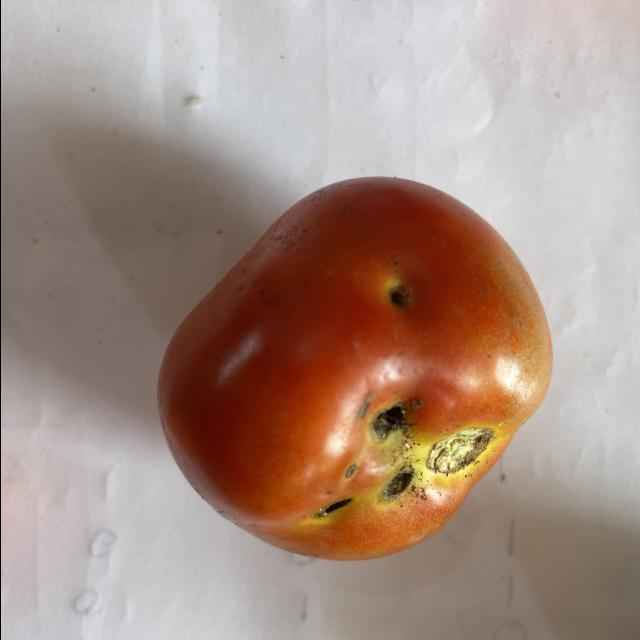fruitworm_bore: (362, 389, 418, 441), (373, 454, 418, 518), (306, 492, 362, 542), (374, 274, 422, 314)
